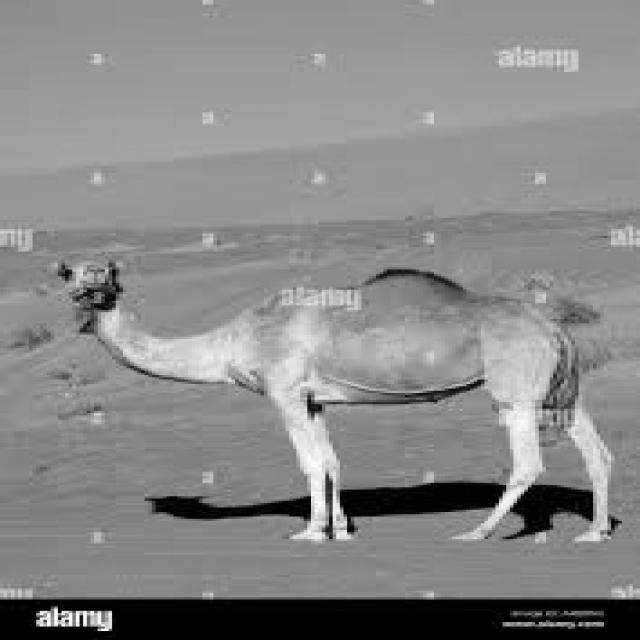Camel: (51, 254, 622, 543)
